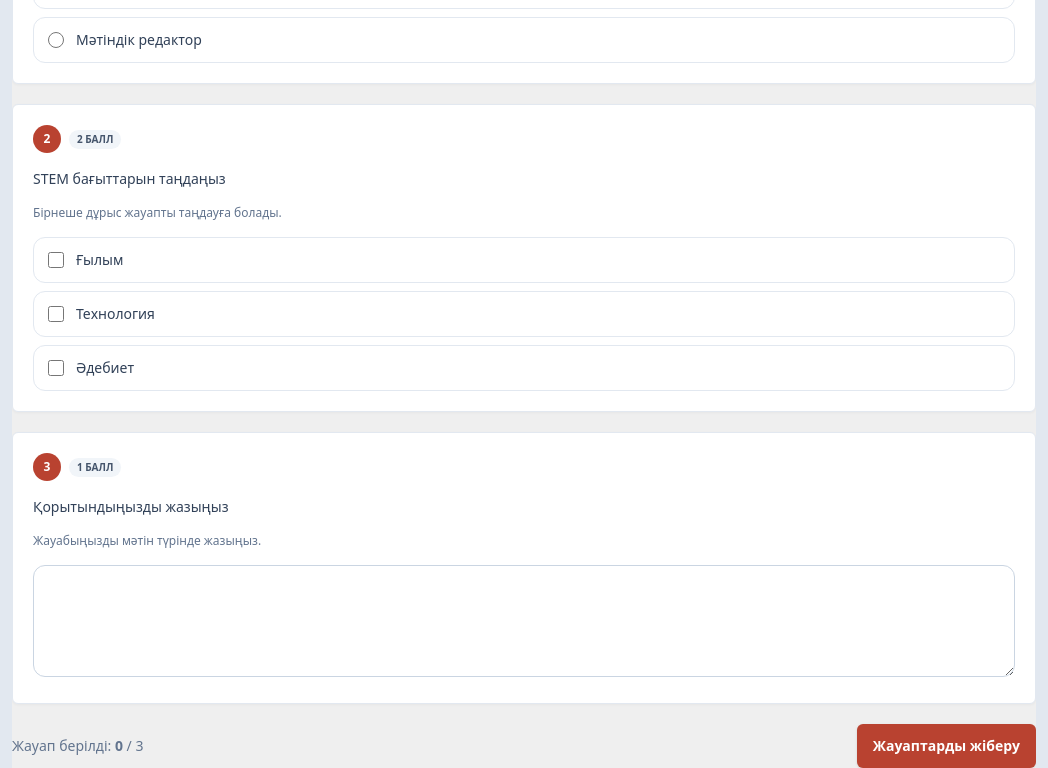
it: QuizForm › blocks submission until every question is answered
(page scrolled)
Step 1. Click the button "Жауаптарды жіберу" → (946, 746), box left=857, top=724, right=1036, bottom=767
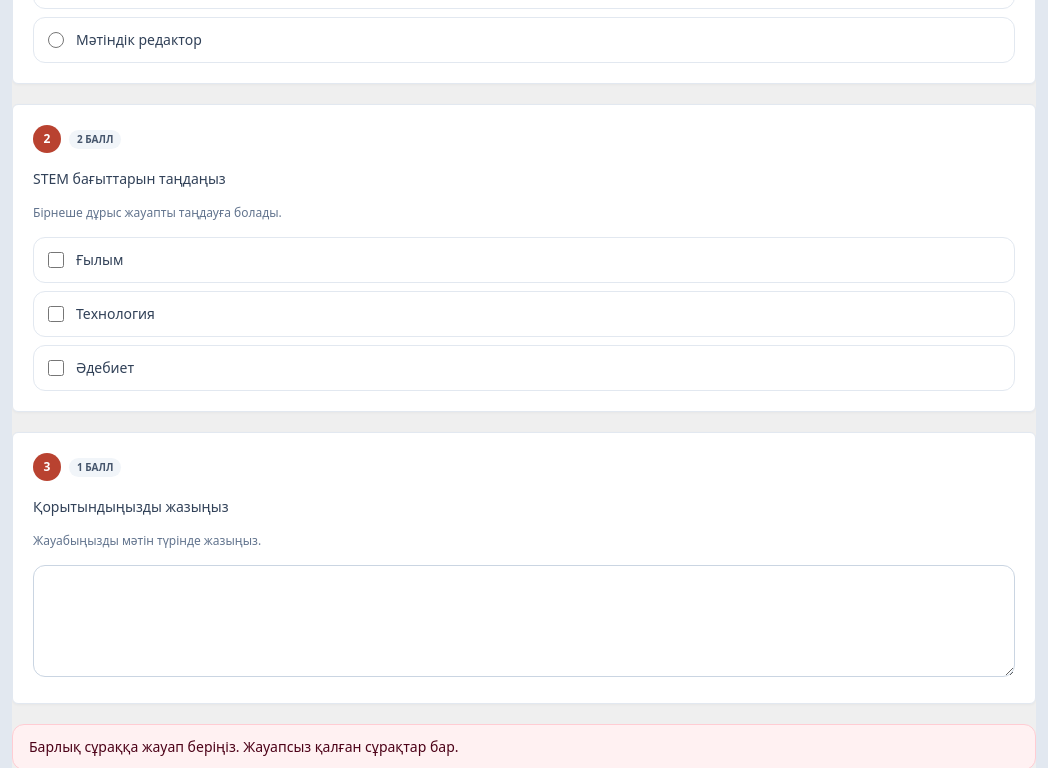
Expected: the text "Барлық сұраққа жауап беріңіз. Жауапсыз қалған сұрақтар бар." is shown, left=29, top=737, right=458, bottom=756
